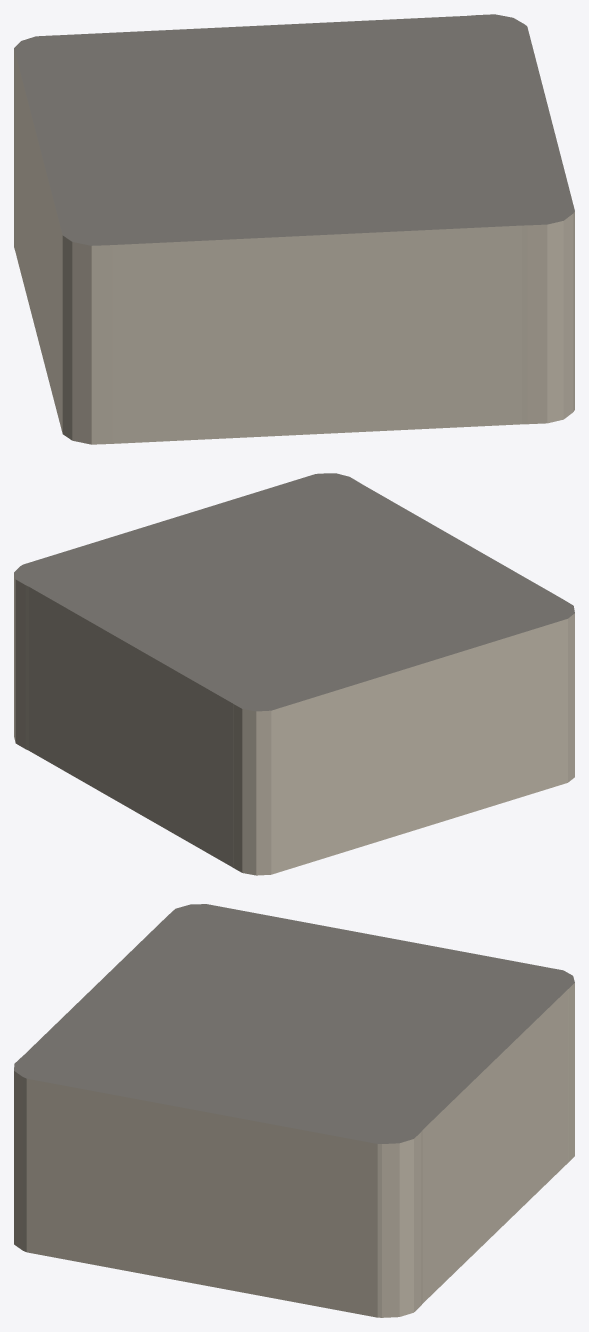
3 views of the same model, one above another, from view 1: azimuth 30°, elevation 25°; view 2: azimuth 150°, elevation 25°; view 3: azimuth 270°, elevation 25° (orthographic). The views are drawn at different scales.
Parts seen in each view (by area): view 1: HP-w859488697; view 2: HP-w859488697; view 3: HP-w859488697.
Part boxes in pixels (bbox=[...]): HP-w859488697: bbox=[14, 14, 574, 444]; HP-w859488697: bbox=[14, 473, 574, 875]; HP-w859488697: bbox=[14, 904, 574, 1317].
Bounding box in the file's own units: 53.32 × 18 × 52.66.
